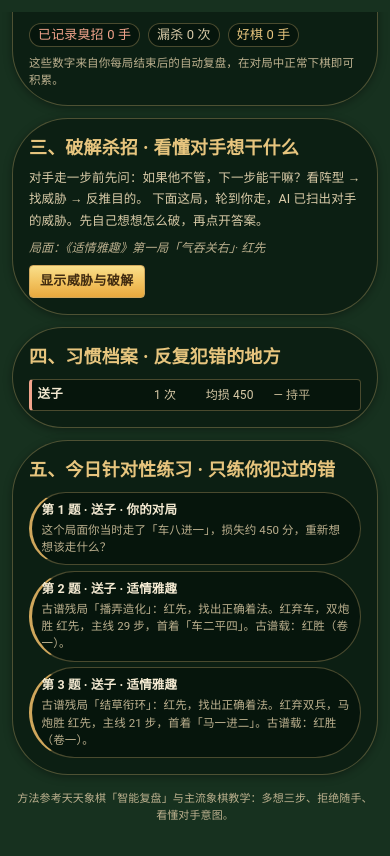
H3 习惯档案页 › 有失误记录时按类型渲染档案表，并从真实 setup 出题
The image size is (390, 856).
(page scrolled)
Expected: the element with test id "habit-cluster-row" shows "送子", [38,386,63,401]
Expected: the element with test id "habit-cluster-row" shows "1 次", [29,379,361,410]
Click the button with test id "habit-drill-item" at (195, 528), box [29,492,361,565]
(page scrolled)
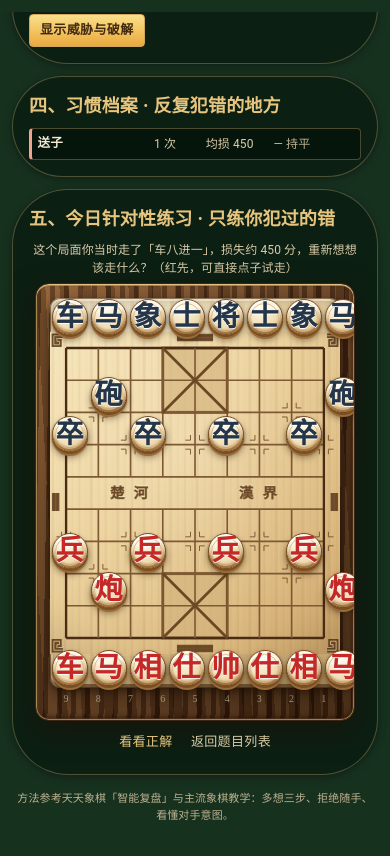
Expected: the element with test id "habit-drill-session" is shown, [29,241,361,758]
